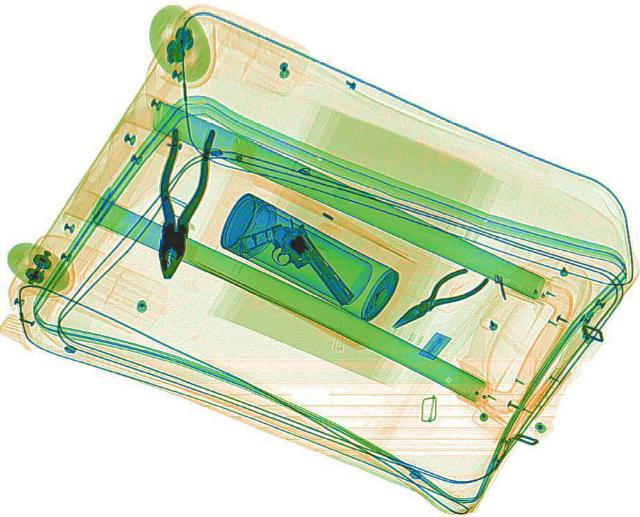Gun: (234, 209, 358, 328)
Pliers: (144, 125, 214, 280), (380, 259, 490, 336)
